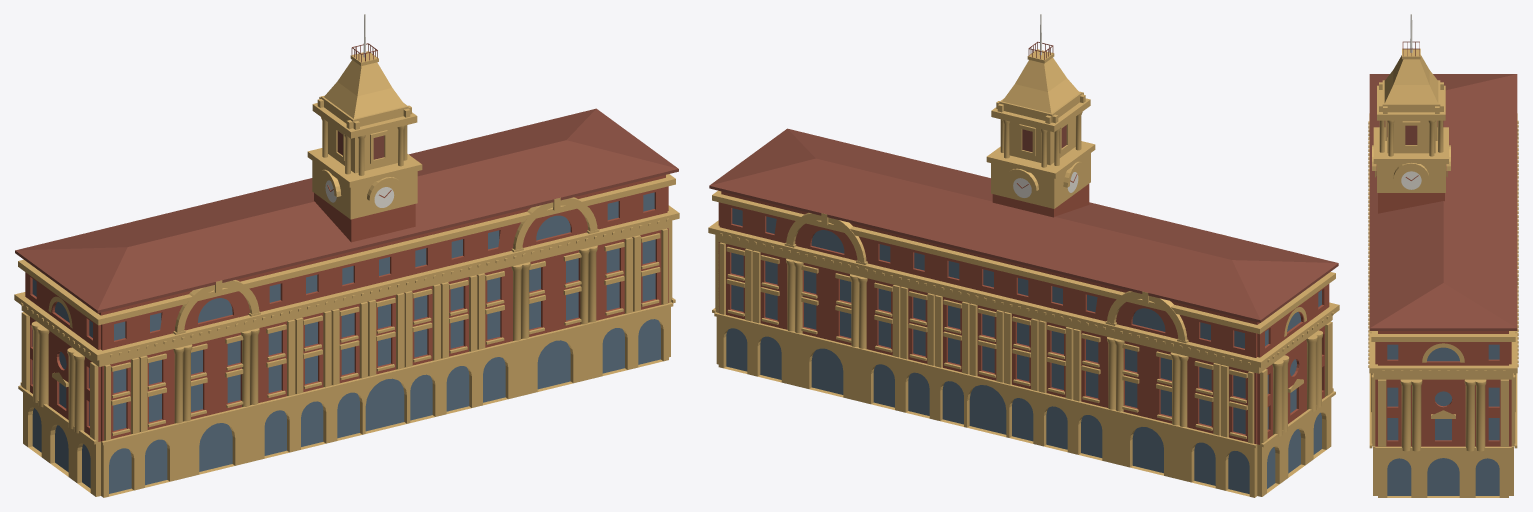
The model's file is auckland-ferry-building.detail.glb.
3 views of the same model, side by side, from view 1: azimuth 30°, elevation 25°; view 2: azimuth 150°, elevation 25°; view 3: azimuth 270°, elevation 25° (orthographic). The views are drawn at different scales.
Visible parts, largest first — view 1: Ferry Building; view 2: Ferry Building; view 3: Ferry Building.
Boxes of the visible parts, <box> form: Ferry Building: <box>14,14,679,497</box>; Ferry Building: <box>708,14,1339,497</box>; Ferry Building: <box>1368,14,1518,497</box>.
Bounding box in the file's own units: 65.48 × 42.5 × 16.2.
